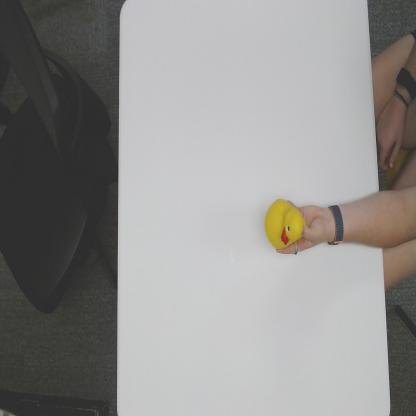Arm: (344, 191, 384, 249)
Duck: (264, 194, 308, 250)
Hand: (277, 199, 328, 257)
